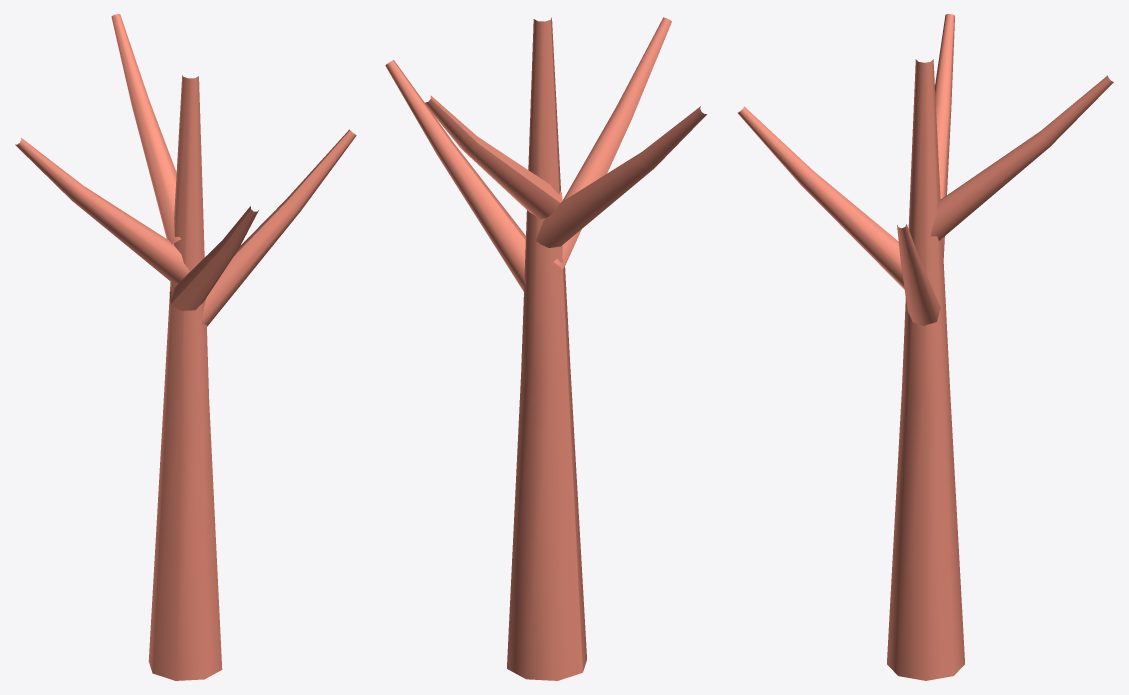
The model's file is PROJECT_Z_Temperate_Oak_Tree_OPTIONAL_Collision.glb.
3 renders of one model, left to right at view 1: azimuth 30°, elevation 25°; view 2: azimuth 150°, elevation 25°; view 3: azimuth 270°, elevation 25°, orthographic. The views are drawn at different scales.
Visible parts, largest first — view 1: UCX_PZ_Oak_Trunk_Main_Capsule, UCX_PZ_Oak_PrimaryBranch_03, UCX_PZ_Oak_PrimaryBranch_01, UCX_PZ_Oak_PrimaryBranch_04, UCX_PZ_Oak_PrimaryBranch_02; view 2: UCX_PZ_Oak_Trunk_Main_Capsule, UCX_PZ_Oak_PrimaryBranch_01, UCX_PZ_Oak_PrimaryBranch_03, UCX_PZ_Oak_PrimaryBranch_04, UCX_PZ_Oak_PrimaryBranch_02; view 3: UCX_PZ_Oak_Trunk_Main_Capsule, UCX_PZ_Oak_PrimaryBranch_04, UCX_PZ_Oak_PrimaryBranch_02, UCX_PZ_Oak_PrimaryBranch_03, UCX_PZ_Oak_PrimaryBranch_01.
Boxes of the visible parts, bbox=[...] form: UCX_PZ_Oak_Trunk_Main_Capsule: bbox=[148, 75, 222, 680]; UCX_PZ_Oak_PrimaryBranch_03: bbox=[15, 138, 189, 283]; UCX_PZ_Oak_PrimaryBranch_01: bbox=[201, 129, 356, 326]; UCX_PZ_Oak_PrimaryBranch_04: bbox=[111, 14, 181, 244]; UCX_PZ_Oak_PrimaryBranch_02: bbox=[169, 206, 258, 310]; UCX_PZ_Oak_Trunk_Main_Capsule: bbox=[507, 17, 586, 680]; UCX_PZ_Oak_PrimaryBranch_01: bbox=[385, 60, 526, 291]; UCX_PZ_Oak_PrimaryBranch_03: bbox=[536, 106, 706, 247]; UCX_PZ_Oak_PrimaryBranch_04: bbox=[423, 95, 562, 219]; UCX_PZ_Oak_PrimaryBranch_02: bbox=[554, 17, 671, 269]; UCX_PZ_Oak_Trunk_Main_Capsule: bbox=[887, 59, 964, 680]; UCX_PZ_Oak_PrimaryBranch_04: bbox=[930, 75, 1113, 240]; UCX_PZ_Oak_PrimaryBranch_02: bbox=[737, 106, 904, 289]; UCX_PZ_Oak_PrimaryBranch_03: bbox=[935, 14, 954, 257]; UCX_PZ_Oak_PrimaryBranch_01: bbox=[897, 224, 941, 325].
Size of the model in its own units: 4.25 by 7.53 by 4.25.
